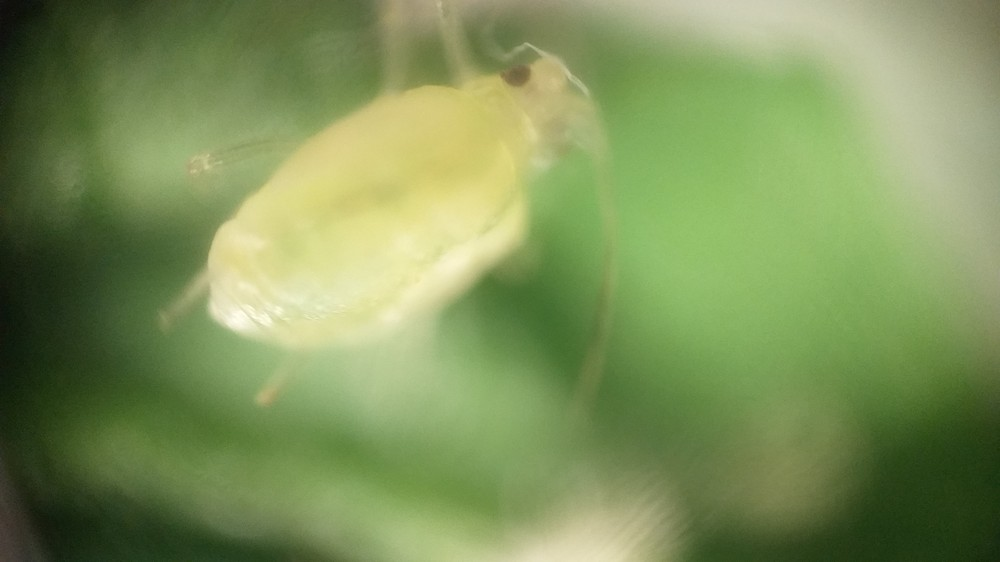Pulgon: (148, 3, 681, 459)
